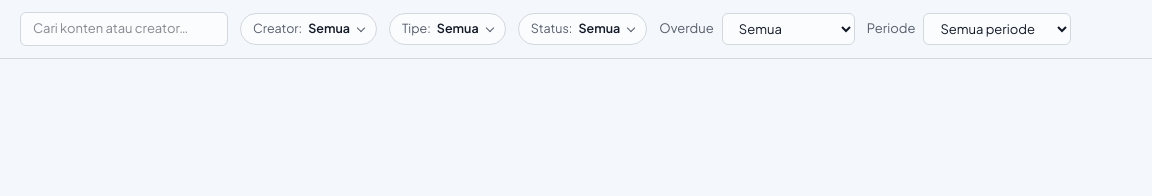
Test: ContentPlanFilters › offers the two content types in its own multi-select
Click the button "Tipe: Semua" at (447, 29), box [389,13,506,45]
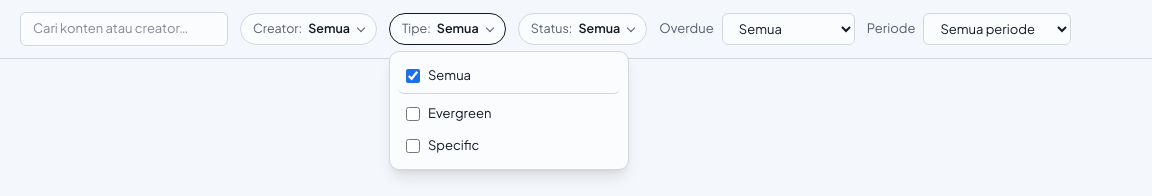
Expected: the checkbox labelled "Evergreen" is shown, [406,107,420,121]
Expected: the checkbox labelled "Specific" is shown, [406,138,420,152]
